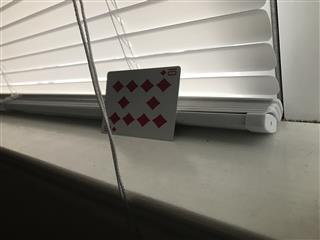TenOfDiamonds: (100, 65, 182, 141)
